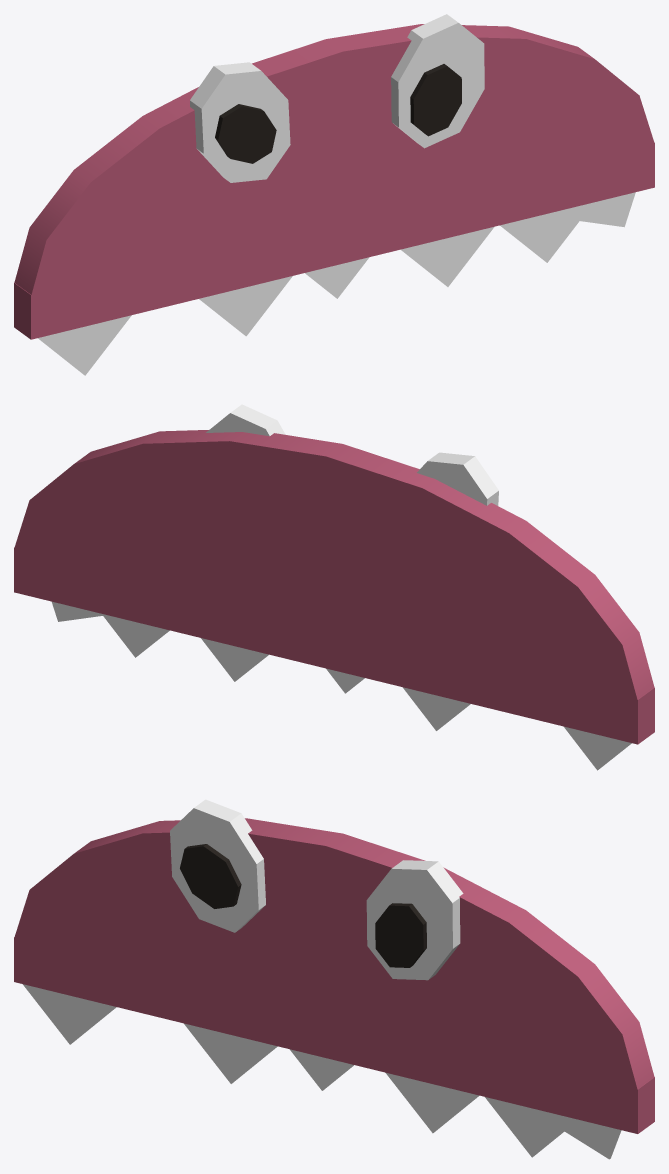
File: Cara1.fbx
The picture shows the model from 3 angles, top to bottom: view 1: azimuth 30°, elevation 25°; view 2: azimuth 150°, elevation 25°; view 3: azimuth 330°, elevation 25°; orthographic projection.
Visible parts, largest first — view 1: Cara1; view 2: Cara1; view 3: Cara1.
Part boxes in pixels (x1,y1,x2,y2): Cara1: (14, 14, 654, 375); Cara1: (14, 404, 654, 770); Cara1: (14, 799, 654, 1159).
Size of the model in its own units: 9.11 by 3.84 by 0.7019.
